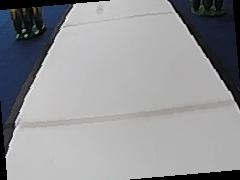corn: (8, 3, 48, 39), (192, 0, 224, 18)
